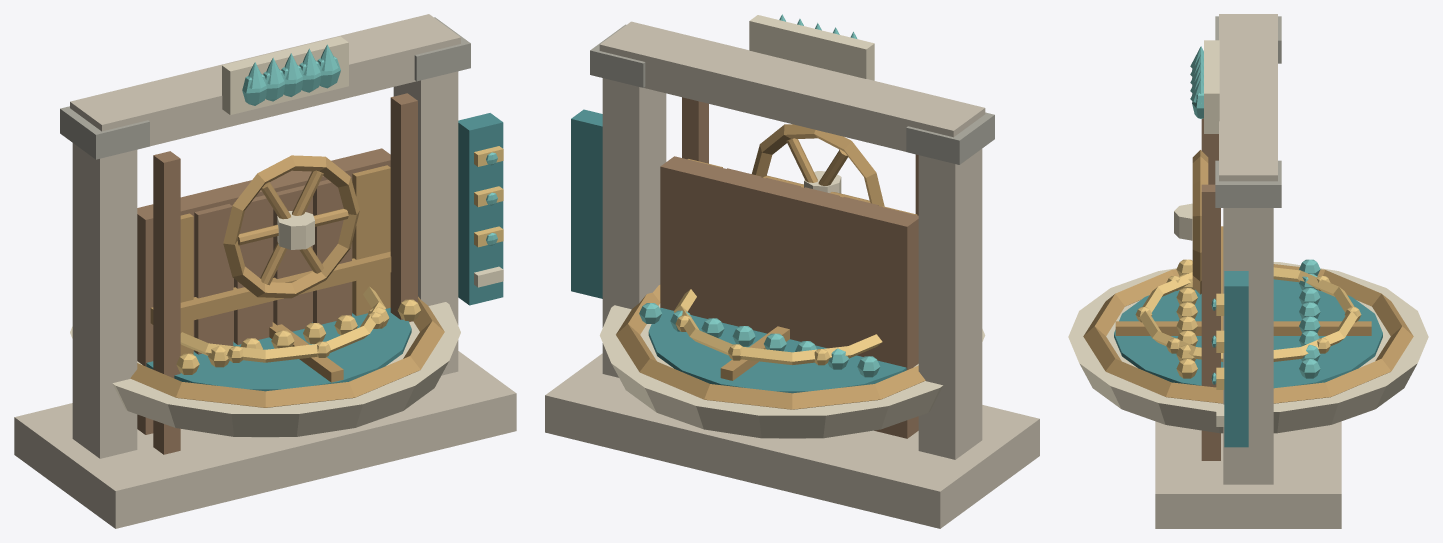
The model's file is world15-waterworks.glb.
3 views of the same model, side by side, from view 1: azimuth 30°, elevation 25°; view 2: azimuth 150°, elevation 25°; view 3: azimuth 270°, elevation 25° (orthographic). The views are drawn at different scales.
Parts seen in each view (by area): view 1: w15-sluice-1-stone, w15-sluice-1-gate-leaf-wood, w15-sluice-1-wood, reservoir-upper, w15-sluice-1-gate-leaf-bronze, w15-sluice-1-handwheel-bronze, w15-reservoir-console-bronze, reservoir-basin, w15-sluice-1-flow-gauge, w15-sluice-1-stone-dark, w15-sluice-1-demand-plaque, reservoir-completed-amber (+6 smaller); view 2: w15-sluice-1-stone, w15-sluice-1-gate-leaf-wood, reservoir-upper, reservoir-basin, w15-reservoir-console-bronze, w15-sluice-1-flow-gauge, w15-sluice-1-demand-plaque, w15-sluice-1-stone-dark, w15-sluice-1-handwheel-bronze, reservoir-completed-amber, w15-sluice-1-wood; view 3: w15-sluice-1-stone, reservoir-upper, w15-reservoir-console-bronze, reservoir-basin, w15-sluice-1-wood, w15-sluice-1-flow-gauge, reservoir-completed-amber, w15-sluice-1-stone-dark, w15-sluice-1-handwheel-bronze, w15-sluice-1-demand-plaque, w15-sluice-1-hub.
Part boxes in pixels (box(x1,y1,x2,y2)): w15-sluice-1-stone: box(14, 14, 516, 528); w15-sluice-1-gate-leaf-wood: box(137, 148, 390, 434); w15-sluice-1-wood: box(153, 93, 417, 454); reservoir-upper: box(70, 302, 460, 436); w15-sluice-1-gate-leaf-bronze: box(150, 165, 391, 355); w15-sluice-1-handwheel-bronze: box(223, 155, 359, 298); w15-reservoir-console-bronze: box(130, 296, 444, 407); reservoir-basin: box(146, 308, 411, 391); w15-sluice-1-flow-gauge: box(458, 113, 503, 305); w15-sluice-1-stone-dark: box(60, 17, 470, 159); w15-sluice-1-demand-plaque: box(222, 36, 348, 114); reservoir-completed-amber: box(180, 286, 385, 362); w15-sluice-1-stone: box(545, 21, 1039, 528); w15-sluice-1-gate-leaf-wood: box(660, 156, 918, 438); reservoir-upper: box(599, 303, 985, 438); reservoir-basin: box(648, 308, 906, 393); w15-reservoir-console-bronze: box(616, 285, 925, 409); w15-sluice-1-flow-gauge: box(571, 109, 602, 298); w15-sluice-1-demand-plaque: box(749, 15, 874, 80); w15-sluice-1-stone-dark: box(590, 24, 994, 164); w15-sluice-1-handwheel-bronze: box(752, 124, 884, 206); reservoir-completed-amber: box(673, 289, 882, 365); w15-sluice-1-wood: box(682, 97, 918, 215); w15-sluice-1-stone: box(1155, 14, 1341, 528); reservoir-upper: box(1068, 262, 1428, 433); w15-reservoir-console-bronze: box(1083, 264, 1413, 403); reservoir-basin: box(1114, 279, 1382, 388); w15-sluice-1-wood: box(1201, 118, 1220, 460); w15-sluice-1-flow-gauge: box(1224, 271, 1248, 447); reservoir-completed-amber: box(1135, 267, 1361, 361); w15-sluice-1-stone-dark: box(1215, 16, 1281, 207); w15-sluice-1-handwheel-bronze: box(1192, 150, 1208, 294); w15-sluice-1-demand-plaque: box(1204, 40, 1219, 133); w15-sluice-1-hub: box(1174, 203, 1192, 240).
Bounding box in the file's own units: 3.77 × 3.46 × 3.
